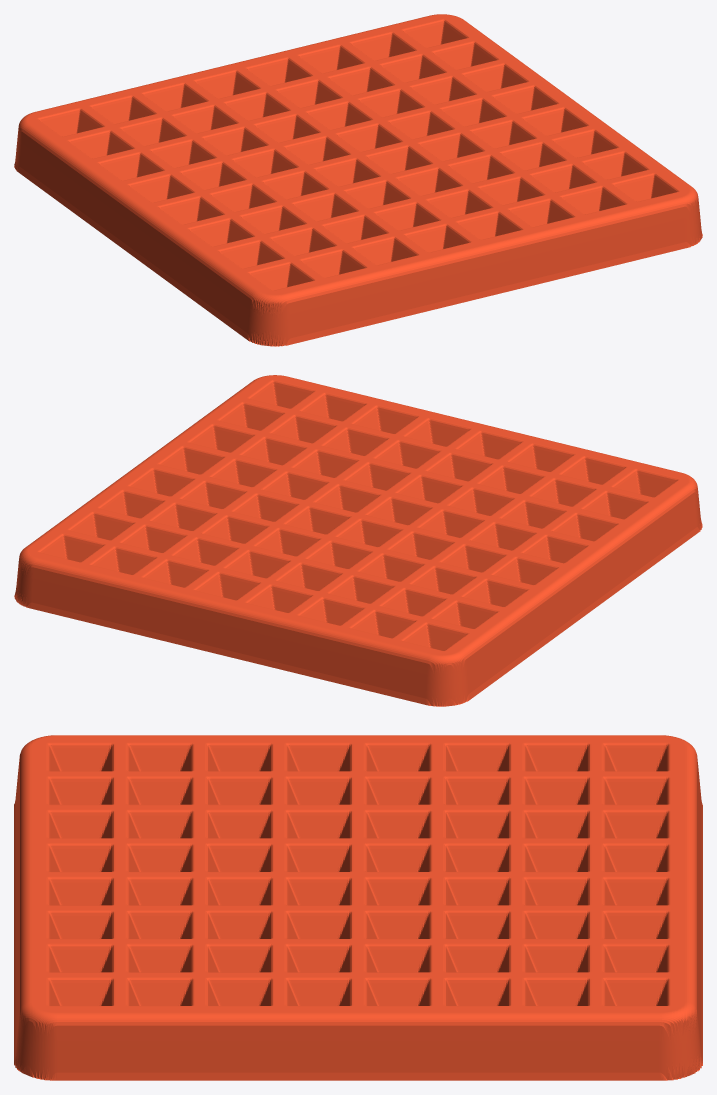
The model's file is mold.glb.
3 views of the same model, one above another, from view 1: azimuth 30°, elevation 25°; view 2: azimuth 150°, elevation 25°; view 3: azimuth 270°, elevation 25° (orthographic). The views are drawn at different scales.
Parts seen in each view (by area): view 1: geometry_0; view 2: geometry_0; view 3: geometry_0.
Part boxes in pixels (x1,y1,x2,y2): geometry_0: (14,14,702,346); geometry_0: (14,375,702,706); geometry_0: (14,735,702,1080).
Bounding box in the file's own units: 0.1443 × 0.014 × 0.1443.
